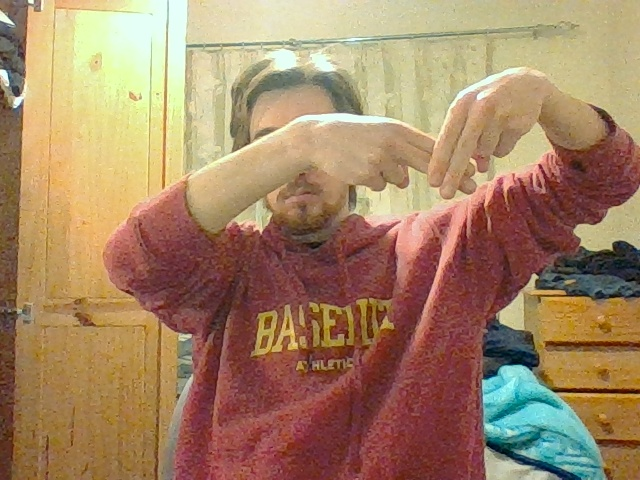father: (383, 87, 506, 199)
